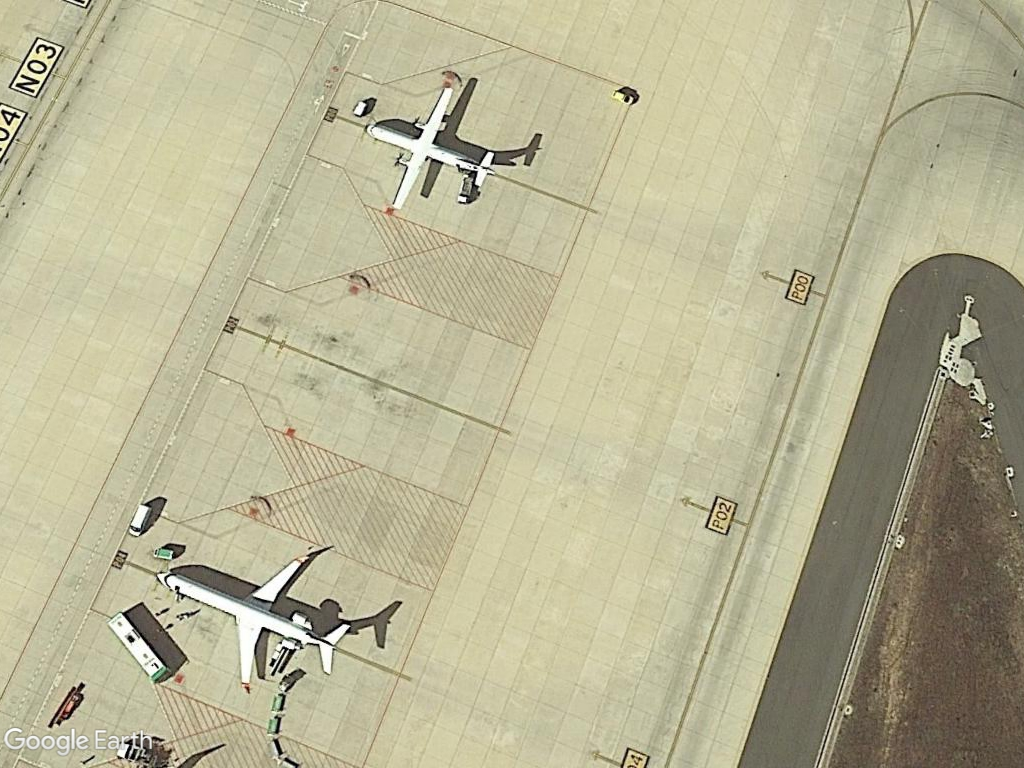bus: (101, 607, 175, 688)
chartered: (145, 524, 361, 703)
propeller: (361, 73, 500, 216)
van: (124, 500, 158, 540)
